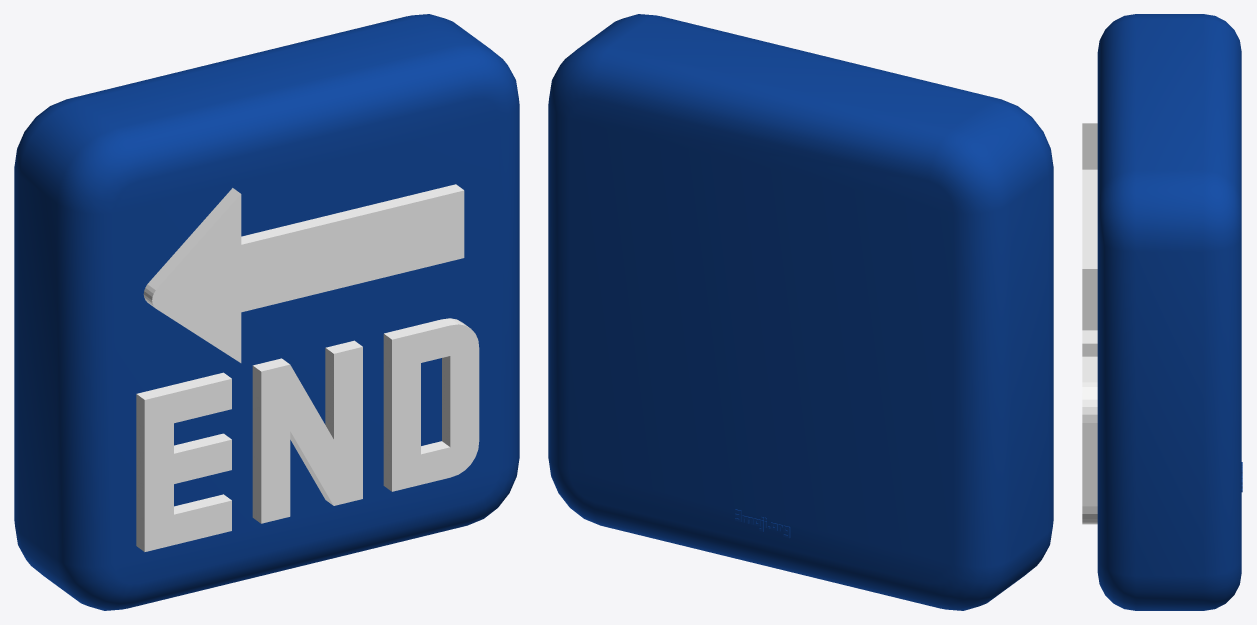
File: end_arrow.fbx
3 renders of one model, left to right at view 1: azimuth 30°, elevation 25°; view 2: azimuth 150°, elevation 25°; view 3: azimuth 270°, elevation 25°, orthographic. The views are drawn at different scales.
Visible parts, largest first — view 1: Cube.6352; view 2: Cube.6352; view 3: Cube.6352.
Part boxes in pixels (bbox=[...]): Cube.6352: bbox=[14, 14, 519, 610]; Cube.6352: bbox=[548, 14, 1053, 610]; Cube.6352: bbox=[1082, 14, 1242, 610].
Bounding box in the file's own units: 220 × 220 × 73.38.
Materials: 1 (1 with a texture image).
